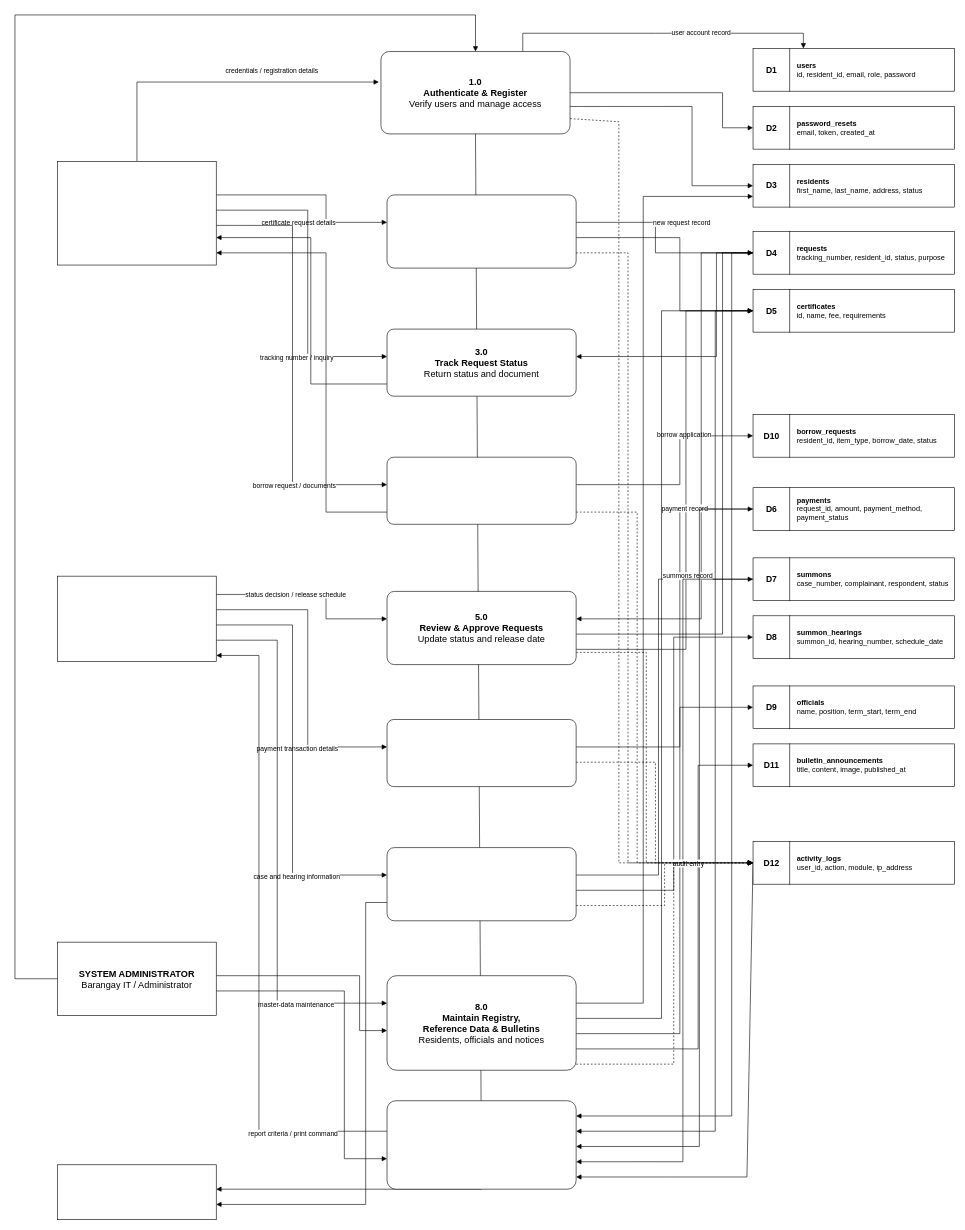
This 965x1230 diagram has some shape labels left out. The centre of each missing label's shape, as x and y in pixels:
"2.0 File Certificate Request Validate and create application" belongs at point (481, 231).
"4.0 Manage Equipment Borrowing Tents, chairs and tables" belongs at point (481, 490).
"6.0 Record & Settle Payment Maintain payment ledger" belongs at point (481, 753).
"7.0 Manage Summons KP case and hearing records" belongs at point (481, 884).
"9.0 Generate Reports & Printable Documents Certificates, KP forms and reports" belongs at point (481, 1144).
"BARANGAY STAFF Secretary / Clerk" belongs at point (136, 619).
"MAIL SERVER Email / OTP Notifications" belongs at point (136, 1192).
"RESIDENT Web Portal / Mobile App" belongs at point (136, 213).
